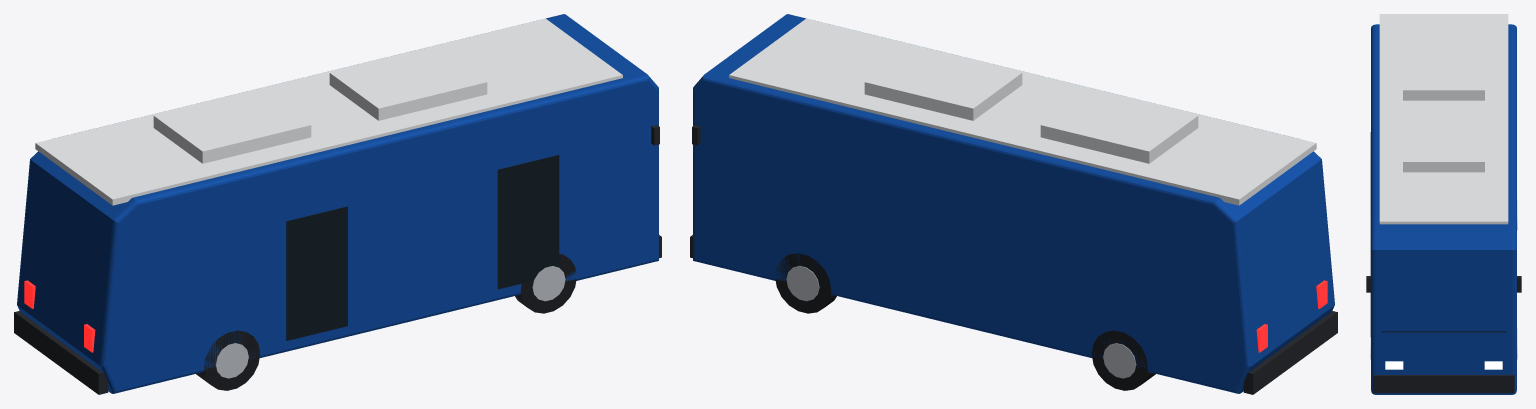
File: sitp_azul.glb
3 views of the same model, side by side, from view 1: azimuth 30°, elevation 25°; view 2: azimuth 150°, elevation 25°; view 3: azimuth 270°, elevation 25° (orthographic). The views are drawn at different scales.
Bounding box in the file's own units: 9.6 × 3.69 × 2.74.
